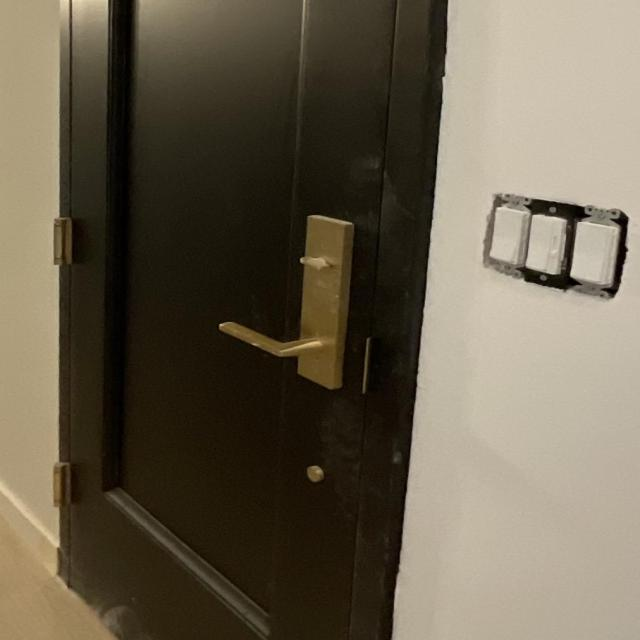door_handle: (202, 307, 342, 374)
